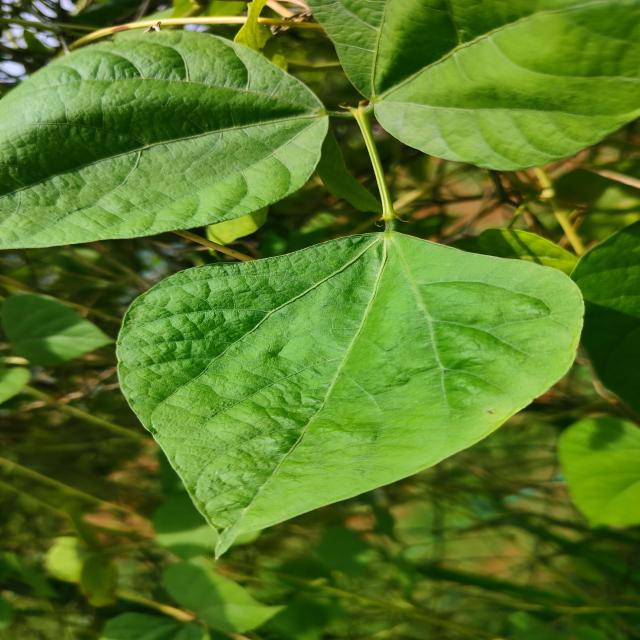Dolicos bean_healthy: (104, 226, 599, 549), (0, 25, 327, 248), (304, 0, 640, 175)
